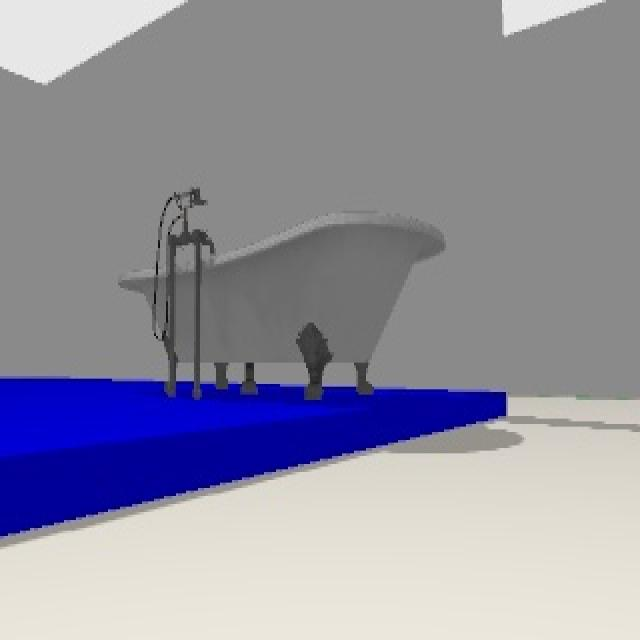bathtub: (125, 184, 447, 403)
